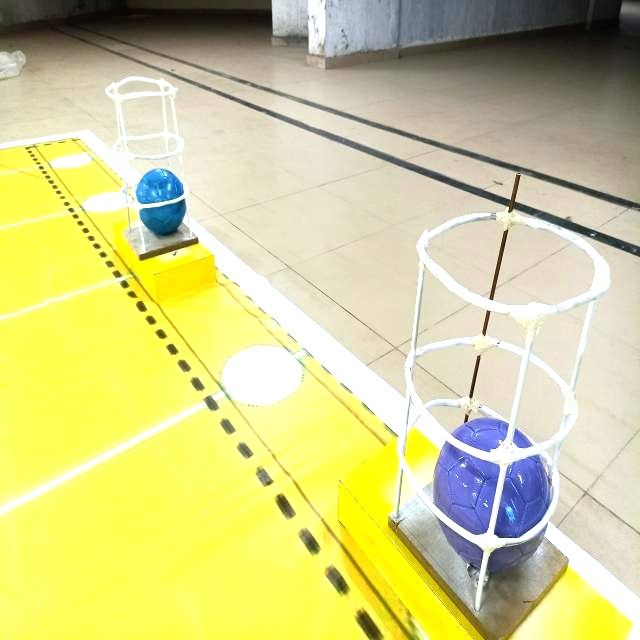blue_ball: (129, 159, 189, 236)
purple_ball: (430, 398, 558, 586)
silo: (389, 192, 611, 609), (106, 72, 185, 256)
